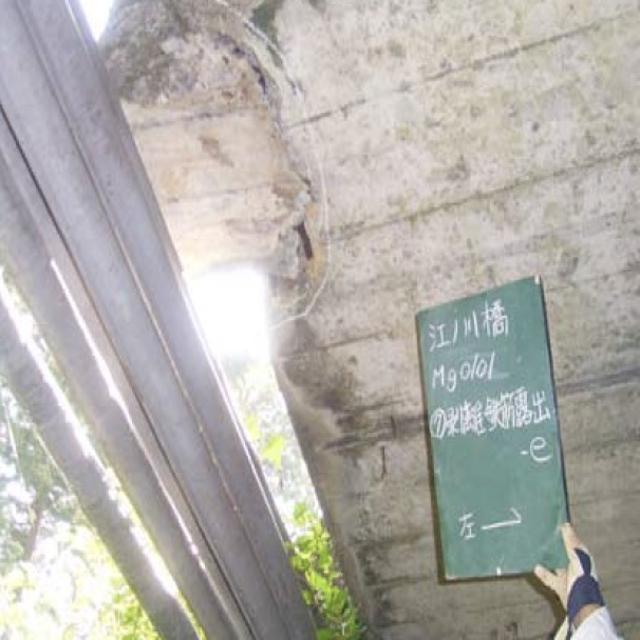spalling: (110, 6, 324, 117), (218, 153, 338, 273)
